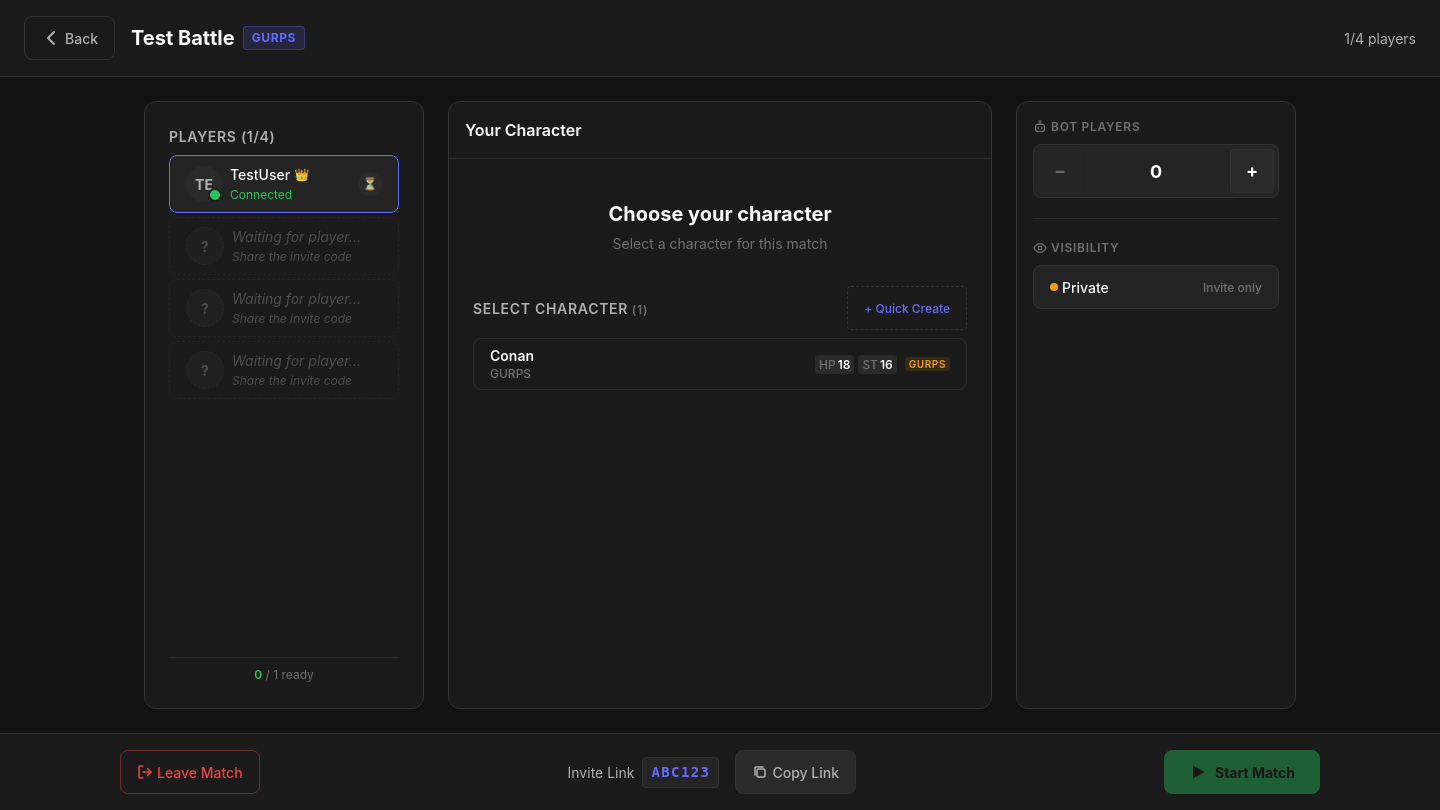
LobbyScreen › clicking Leave Match shows confirmation dialog
The width and height of the screenshot is (1440, 810).
Click the button "Leave Match".
click(190, 772)  # box [120,750,260,794]
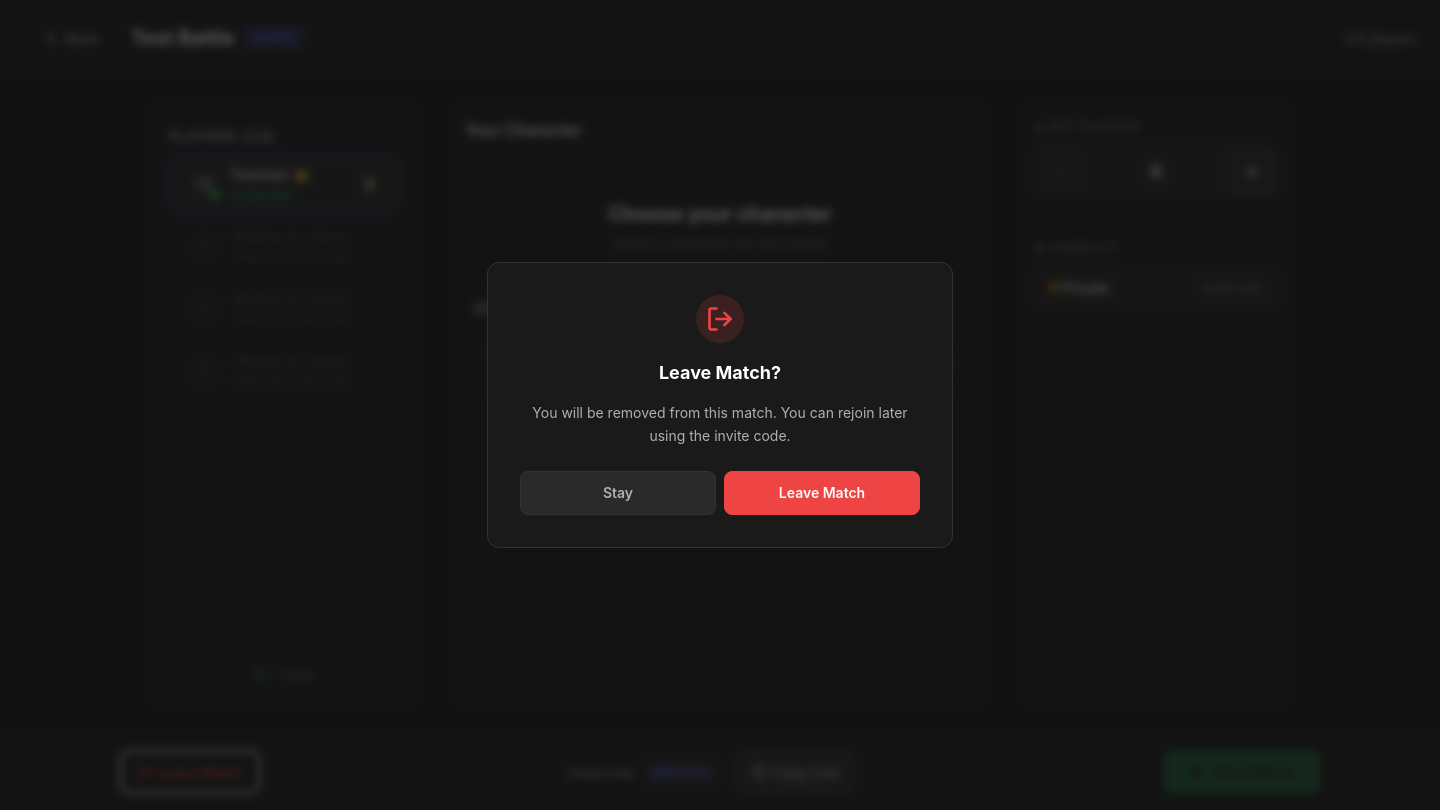
Expected: the heading "Leave Match?" is shown, [659,359,781,386]
